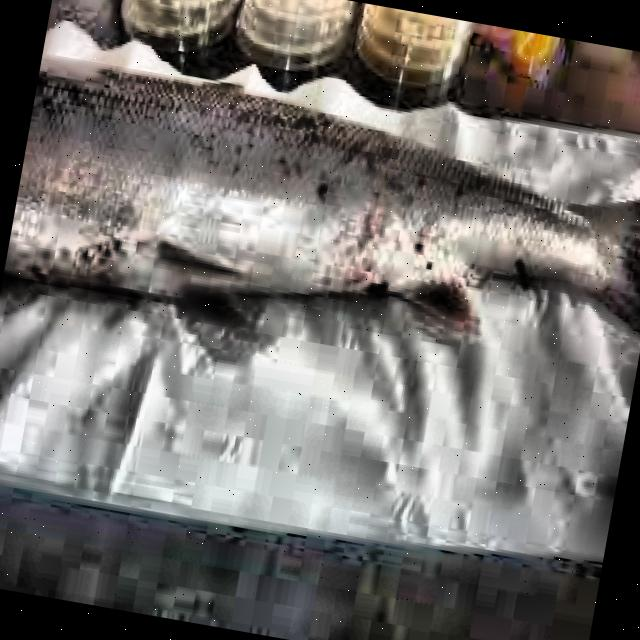mild_red: (4, 57, 607, 298)
